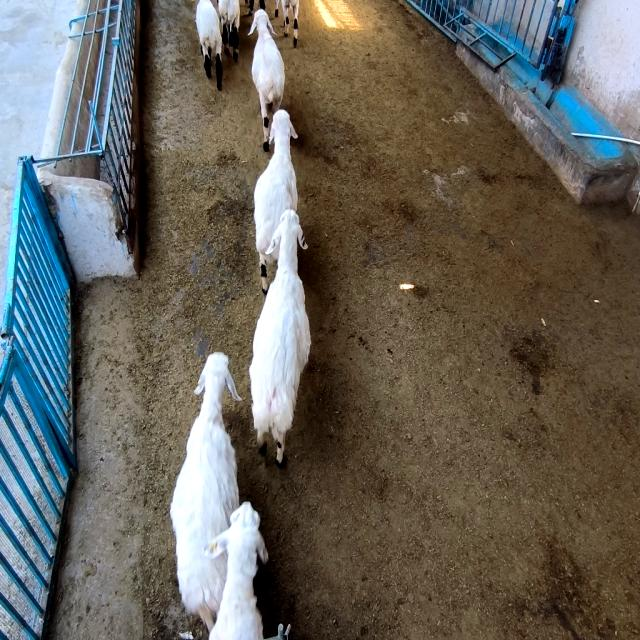sheep: (170, 352, 241, 630), (249, 208, 311, 464), (208, 502, 269, 640), (254, 110, 298, 293), (250, 8, 285, 151), (196, 0, 222, 90), (219, 0, 240, 61), (276, 0, 299, 48)
